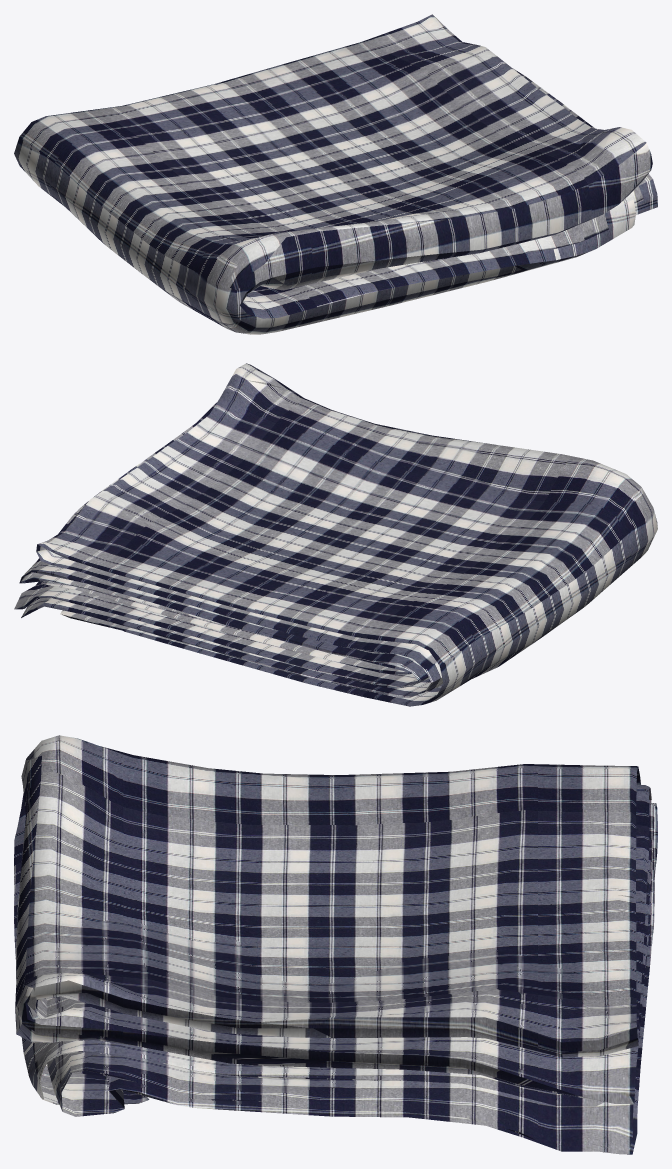
File: Folded clothes 4.FBX
The picture shows the model from 3 angles, top to bottom: view 1: azimuth 30°, elevation 25°; view 2: azimuth 150°, elevation 25°; view 3: azimuth 270°, elevation 25°; orthographic projection. The views are drawn at different scales.
Parts seen in each view (by area): view 1: Folded clothes 4; view 2: Folded clothes 4; view 3: Folded clothes 4.
Part boxes in pixels (box(x1,y1,x2,y2)): Folded clothes 4: box(14, 14, 657, 334); Folded clothes 4: box(14, 363, 657, 706); Folded clothes 4: box(14, 735, 657, 1154).
Bounding box in the file's own units: 33.65 × 8.46 × 29.11.
Materials: 1 (1 with a texture image).
